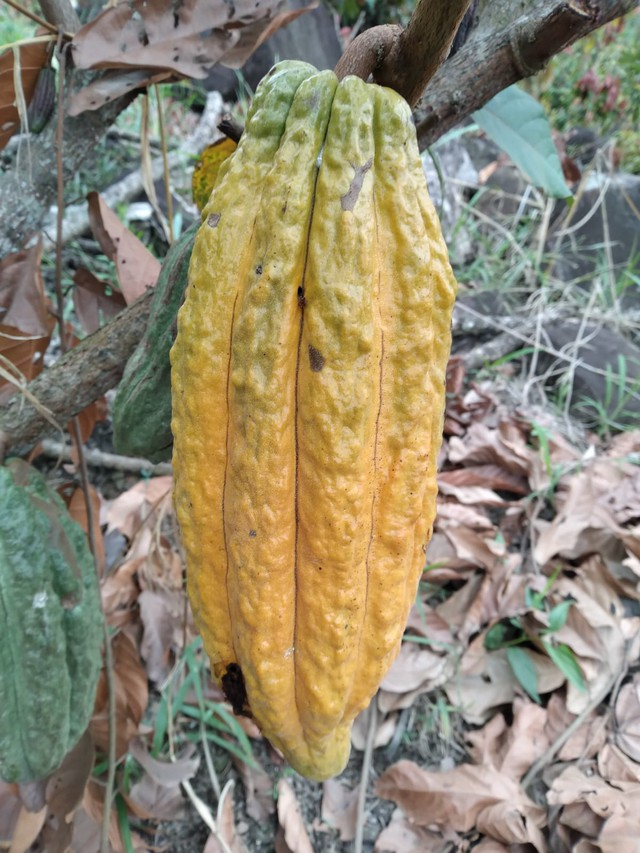carmenta foraseminis: (162, 54, 462, 787)
